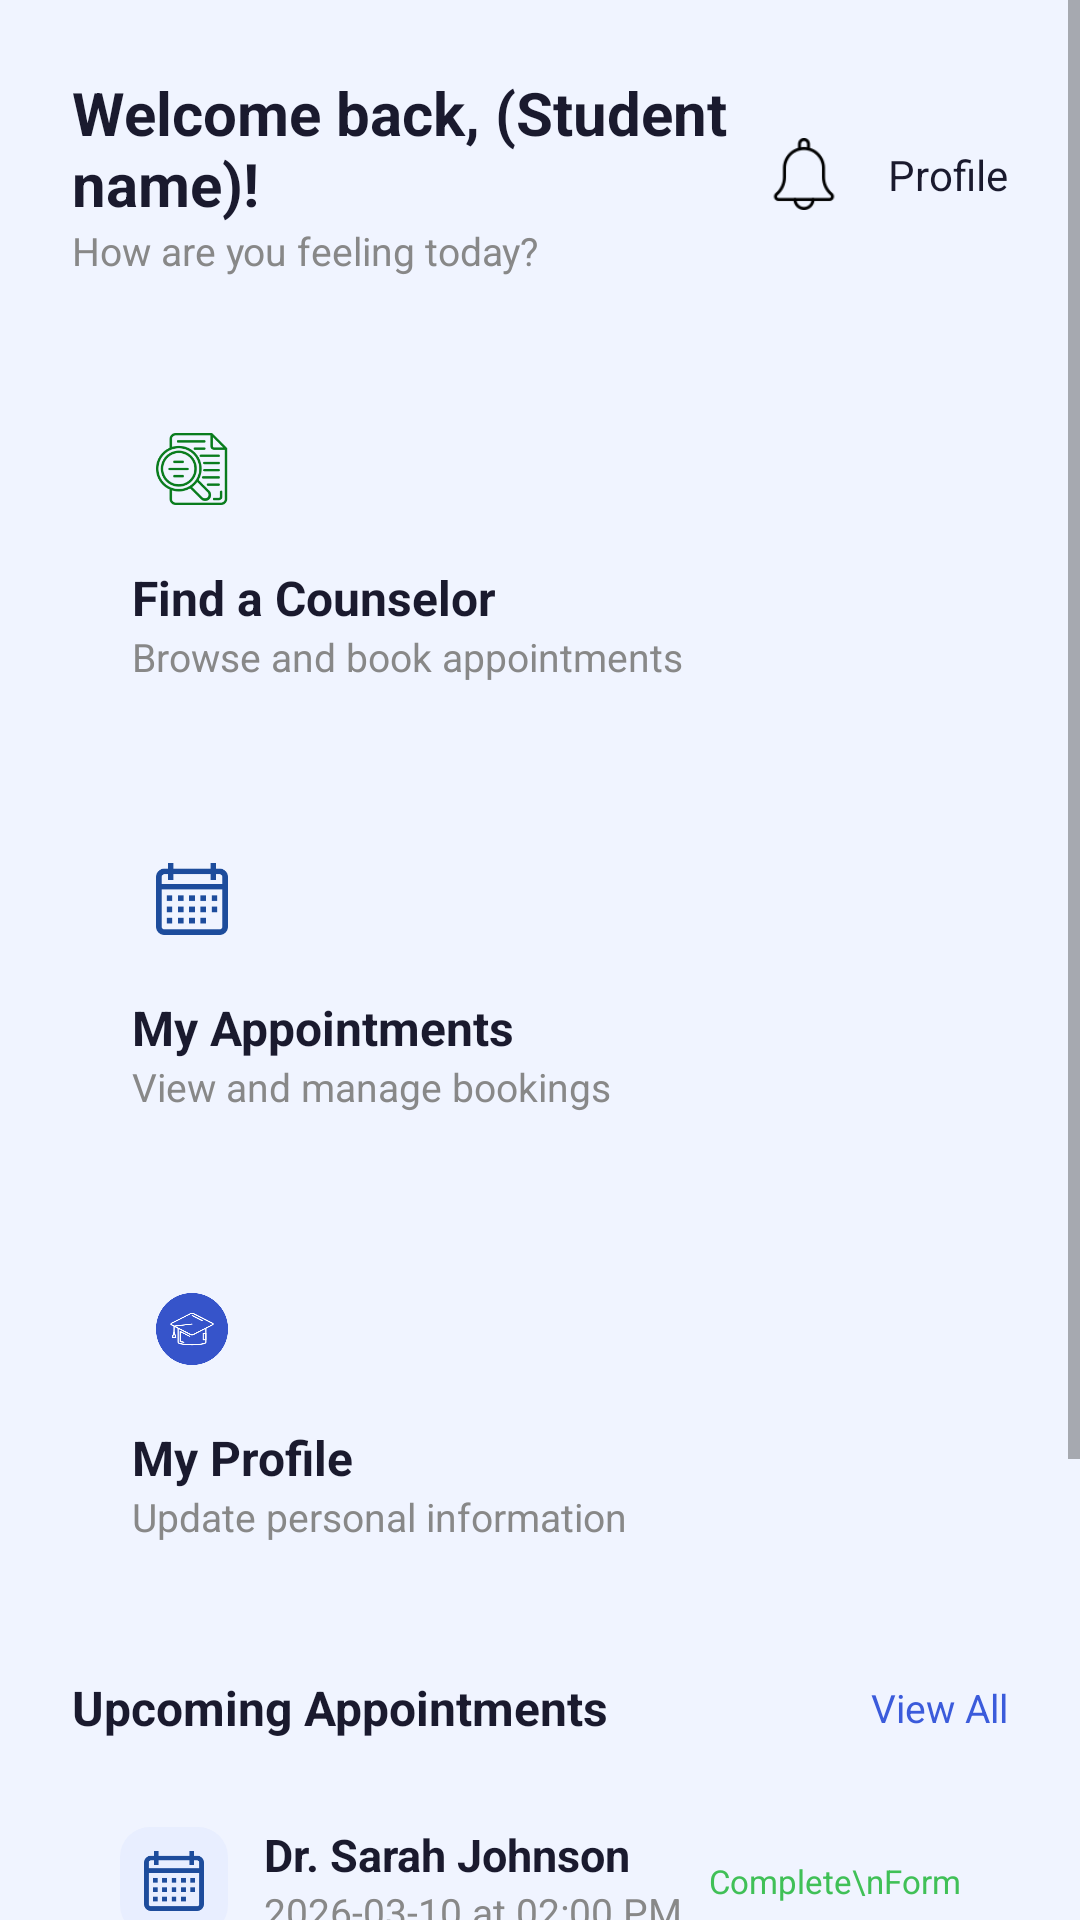

Icon click points for this 1080 × 1920 phone screenshot, format point (x, y):
notification: point (804, 174)
search: point (192, 469)
student: point (192, 1329)
